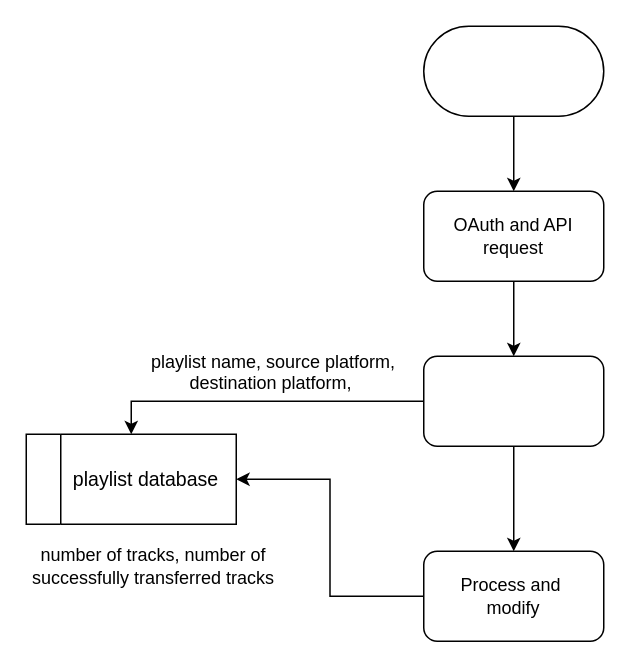
Image size: 630x668. Some labels were removed from this diagram. The shapes that lost their labels are listed below. From the top down, each one's centre as x and y in pixels, then its label:
the point at 513,70: User
the point at 513,400: Get user playlist
